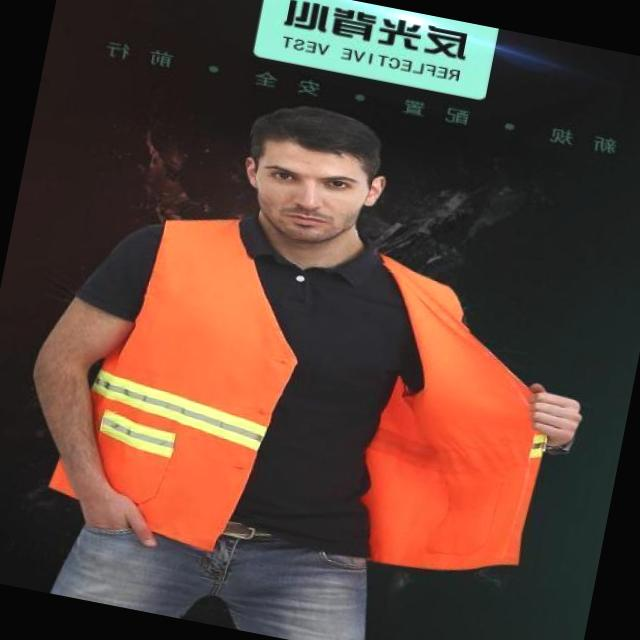vest: (92, 215, 305, 540)
